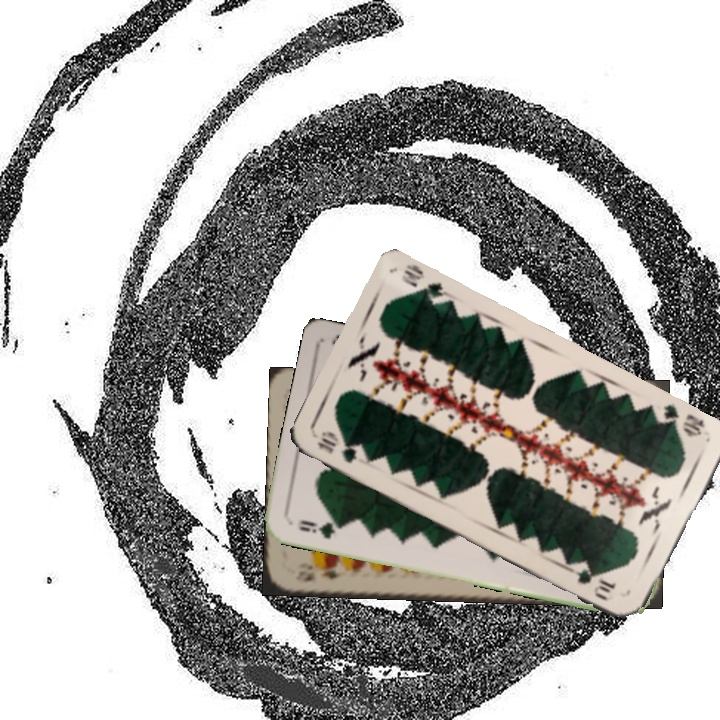E10: (299, 562, 347, 584)
G10: (650, 400, 708, 440), (313, 427, 360, 466)
G9: (294, 516, 347, 541)
